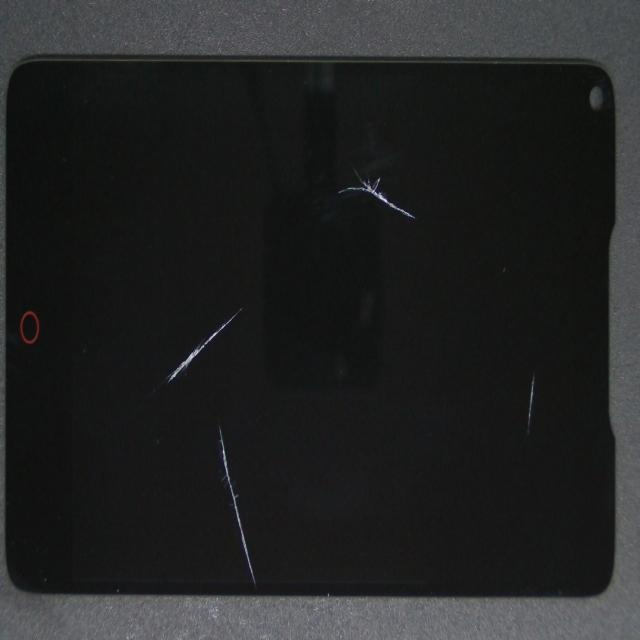scratch: (273, 132, 640, 567), (247, 131, 617, 295), (189, 103, 353, 458), (157, 397, 385, 640)
